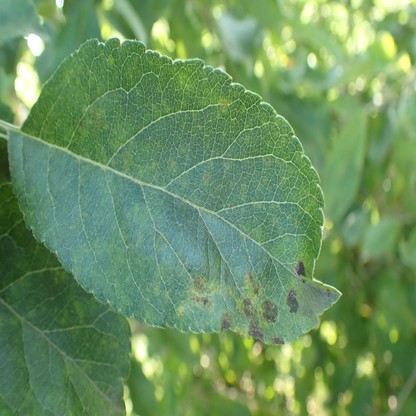scab: (25, 40, 340, 344), (0, 174, 130, 416)
